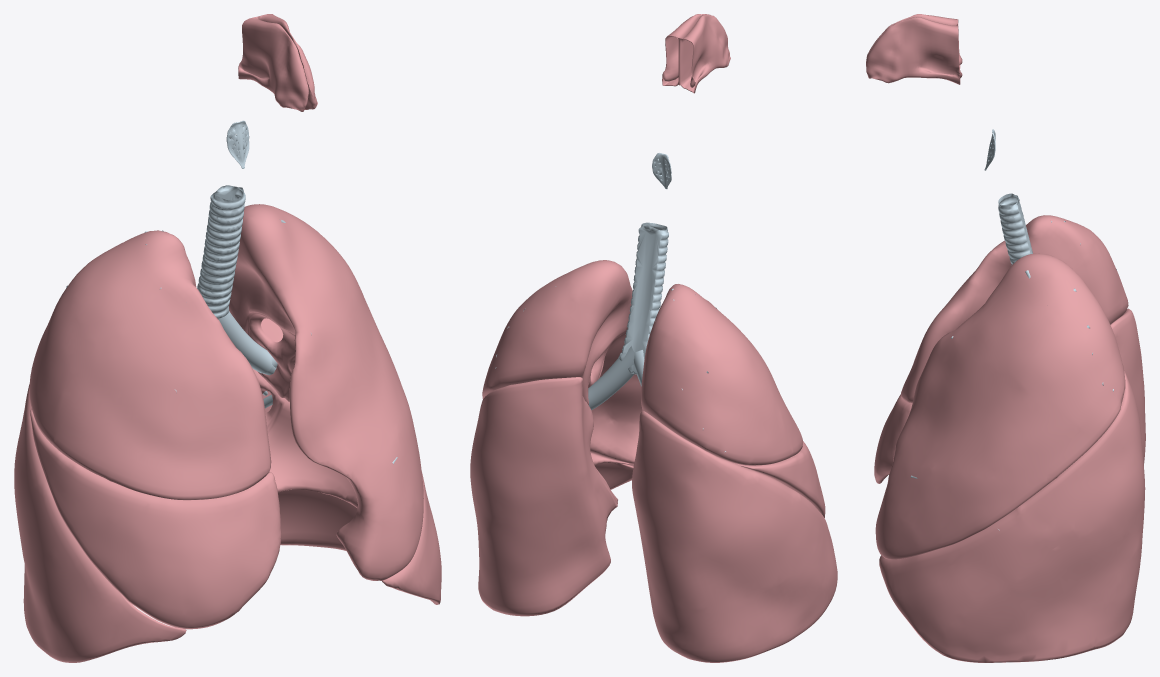
The model's file is respiratory.glb.
3 views of the same model, side by side, from view 1: azimuth 30°, elevation 25°; view 2: azimuth 150°, elevation 25°; view 3: azimuth 270°, elevation 25° (orthographic). The views are drawn at different scales.
Parts seen in each view (by area): view 1: superior-lobe-of-right-lung, superior-lobe-of-left-lung, middle-lobe-of-right-lung, inferior-lobe-of-right-lung, inferior-lobe-of-left-lung, mucosa-of-nasal-cavity, trachea, left-main-bronchus, epiglottis; view 2: inferior-lobe-of-right-lung, inferior-lobe-of-left-lung, superior-lobe-of-right-lung, superior-lobe-of-left-lung, trachea, mucosa-of-nasal-cavity, middle-lobe-of-right-lung, left-main-bronchus; view 3: superior-lobe-of-left-lung, inferior-lobe-of-left-lung, superior-lobe-of-right-lung, mucosa-of-nasal-cavity, inferior-lobe-of-right-lung, trachea, middle-lobe-of-right-lung.
Boxes of the visible parts, bbox=[...] form: superior-lobe-of-right-lung: bbox=[29, 230, 271, 500]; superior-lobe-of-left-lung: bbox=[229, 204, 423, 580]; middle-lobe-of-right-lung: bbox=[30, 408, 281, 629]; inferior-lobe-of-right-lung: bbox=[14, 384, 186, 662]; inferior-lobe-of-left-lung: bbox=[253, 318, 441, 604]; mucosa-of-nasal-cavity: bbox=[238, 14, 317, 111]; trachea: bbox=[197, 185, 245, 318]; left-main-bronchus: bbox=[218, 311, 272, 373]; epiglottis: bbox=[226, 120, 249, 168]; inferior-lobe-of-right-lung: bbox=[632, 411, 837, 662]; inferior-lobe-of-left-lung: bbox=[470, 377, 633, 616]; superior-lobe-of-right-lung: bbox=[641, 284, 802, 465]; superior-lobe-of-left-lung: bbox=[482, 260, 642, 466]; trachea: bbox=[618, 222, 668, 374]; mucosa-of-nasal-cavity: bbox=[662, 14, 730, 93]; middle-lobe-of-right-lung: bbox=[734, 441, 825, 517]; left-main-bronchus: bbox=[588, 346, 634, 410]; superior-lobe-of-left-lung: bbox=[875, 253, 1125, 559]; inferior-lobe-of-left-lung: bbox=[879, 371, 1145, 662]; superior-lobe-of-right-lung: bbox=[901, 215, 1128, 402]; mucosa-of-nasal-cavity: bbox=[866, 14, 962, 84]; inferior-lobe-of-right-lung: bbox=[1110, 308, 1145, 465]; trachea: bbox=[998, 193, 1032, 265]; middle-lobe-of-right-lung: bbox=[874, 394, 912, 483].
Size of the model in its own units: 0.261 by 0.4306 by 0.1913.
